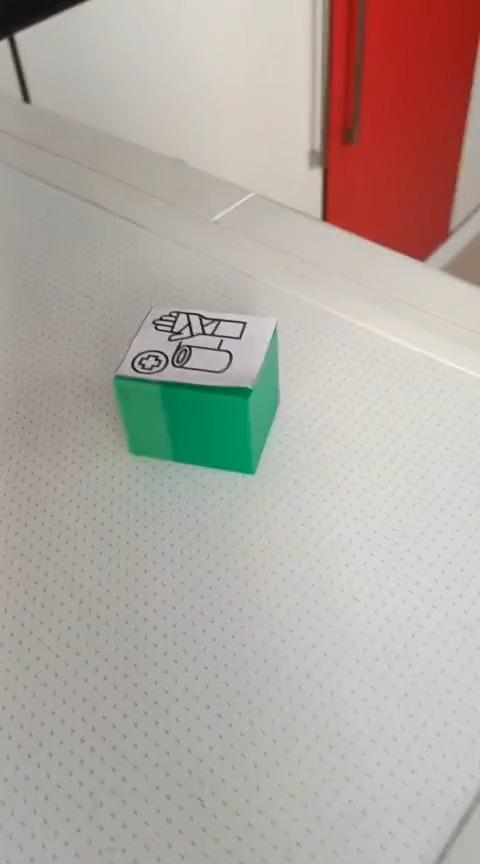Bandages: (114, 306, 281, 475)
